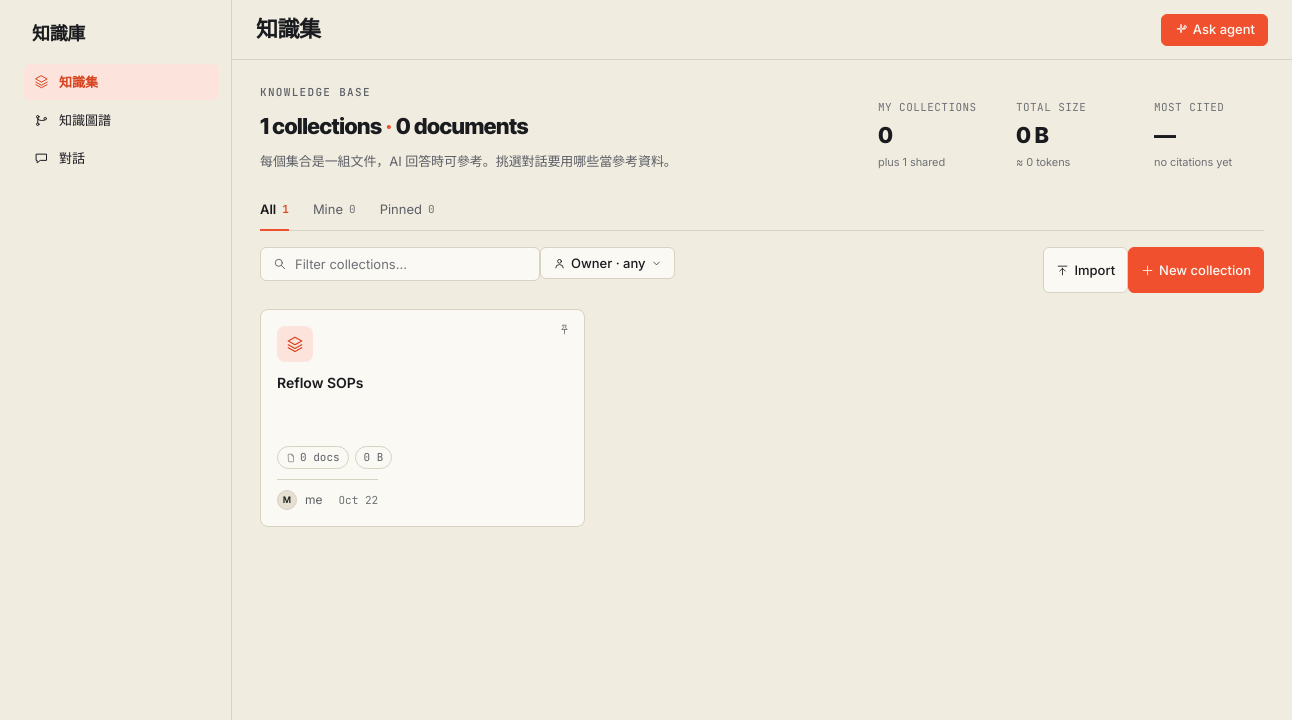
Test: KB routes › writes the grid filter to the URL when a tab is picked
The width and height of the screenshot is (1292, 720).
Click the button "Mine 0".
click(334, 210)  # box [313,189,356,231]
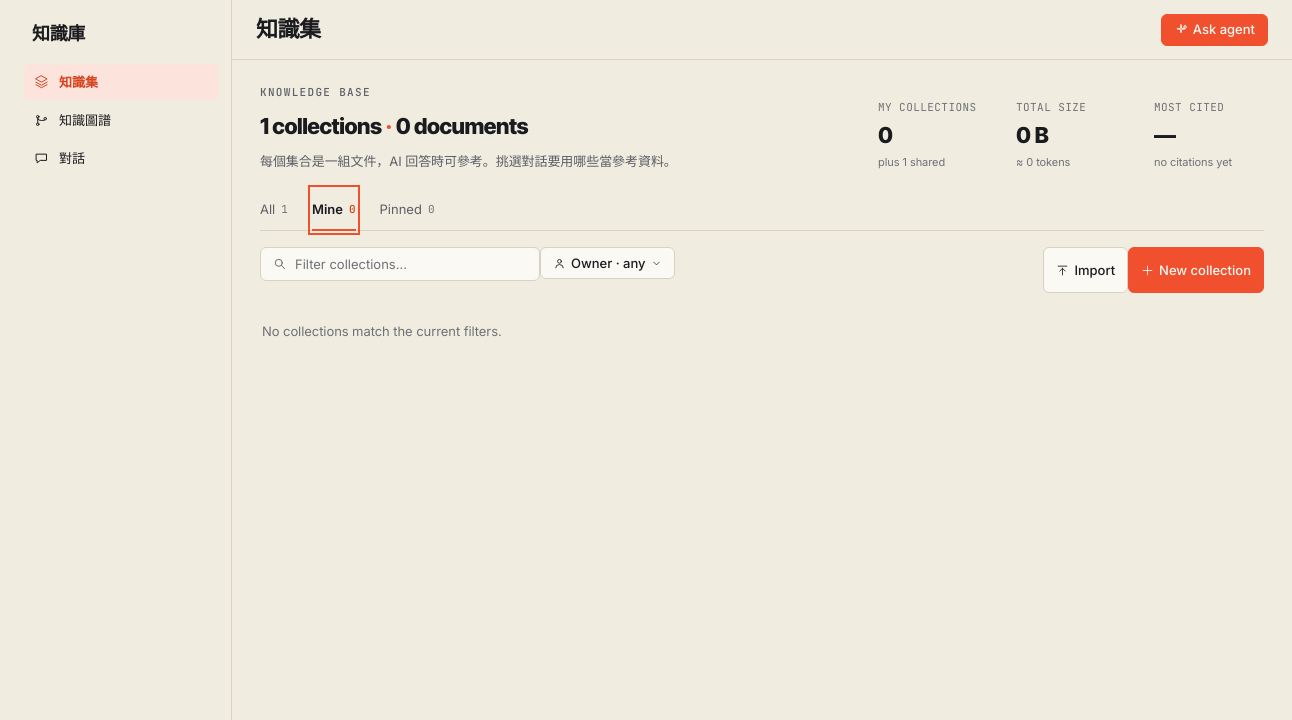
// and back to All clears the param (canonical /kb/collections, no ?view)
Click the button "All 1".
click(274, 210)  # box [260,189,288,231]
(page scrolled)
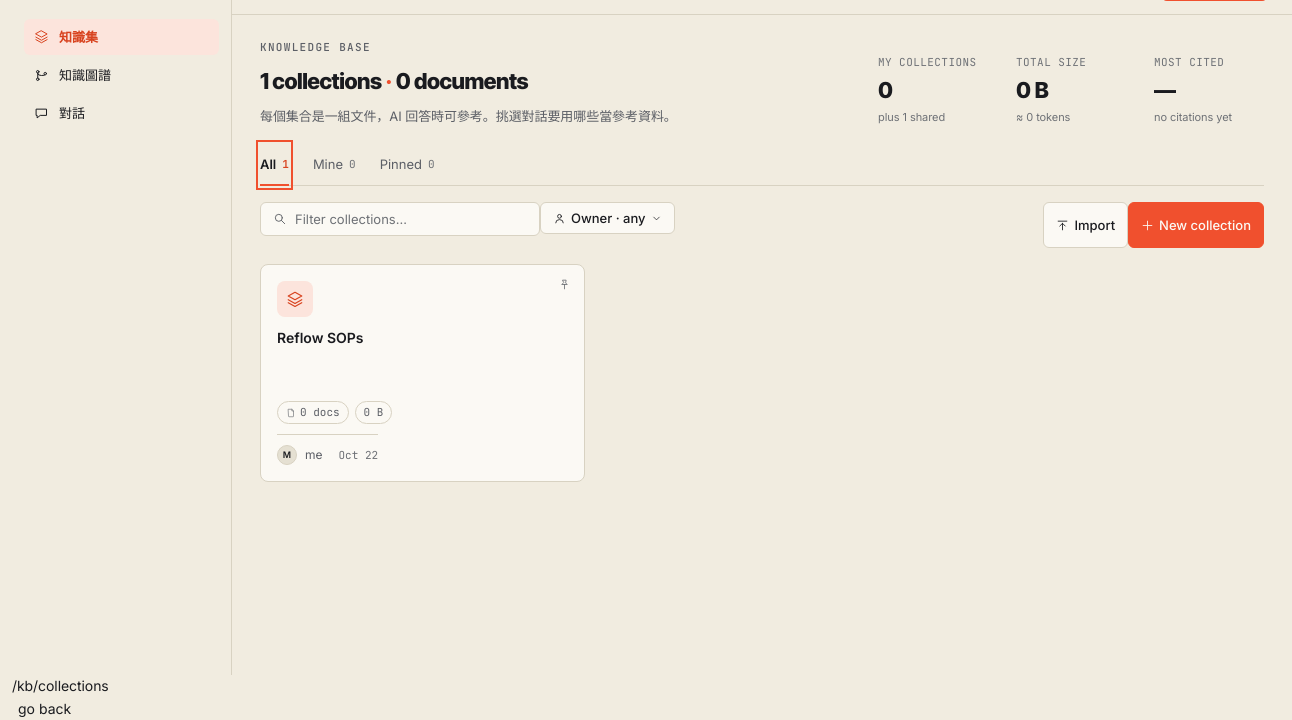
Expected: the text with test id "loc" reads "/kb/collections", [12,677,109,694]
Expected: the text with test id "loc" no longer shows "view=", [12,677,109,694]
